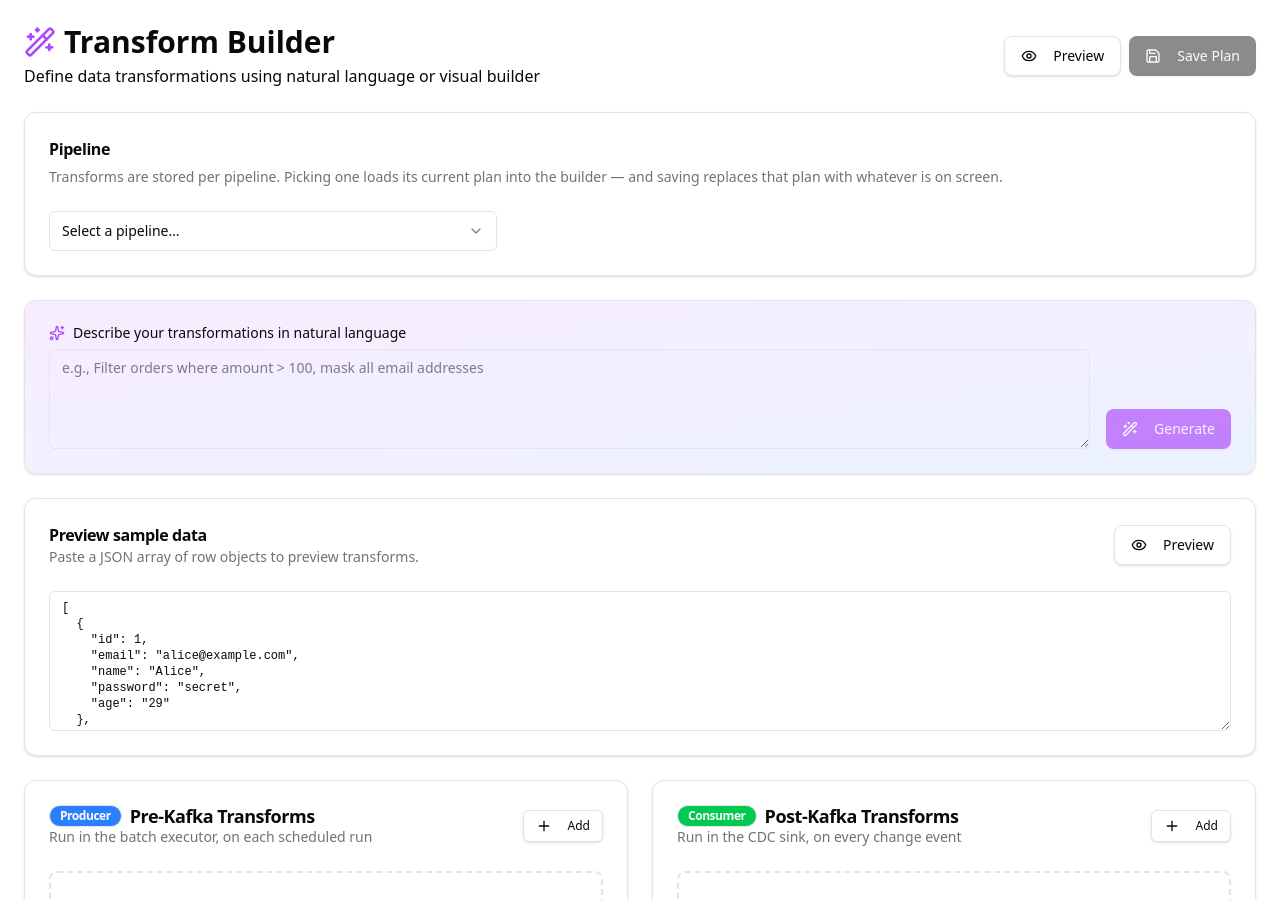
Test: Transform Builder — unsaved work › says nothing about unsaved work on a plan that is exactly what is stored
Click the dropdown.
click(121, 230)  # box [49, 211, 497, 251]
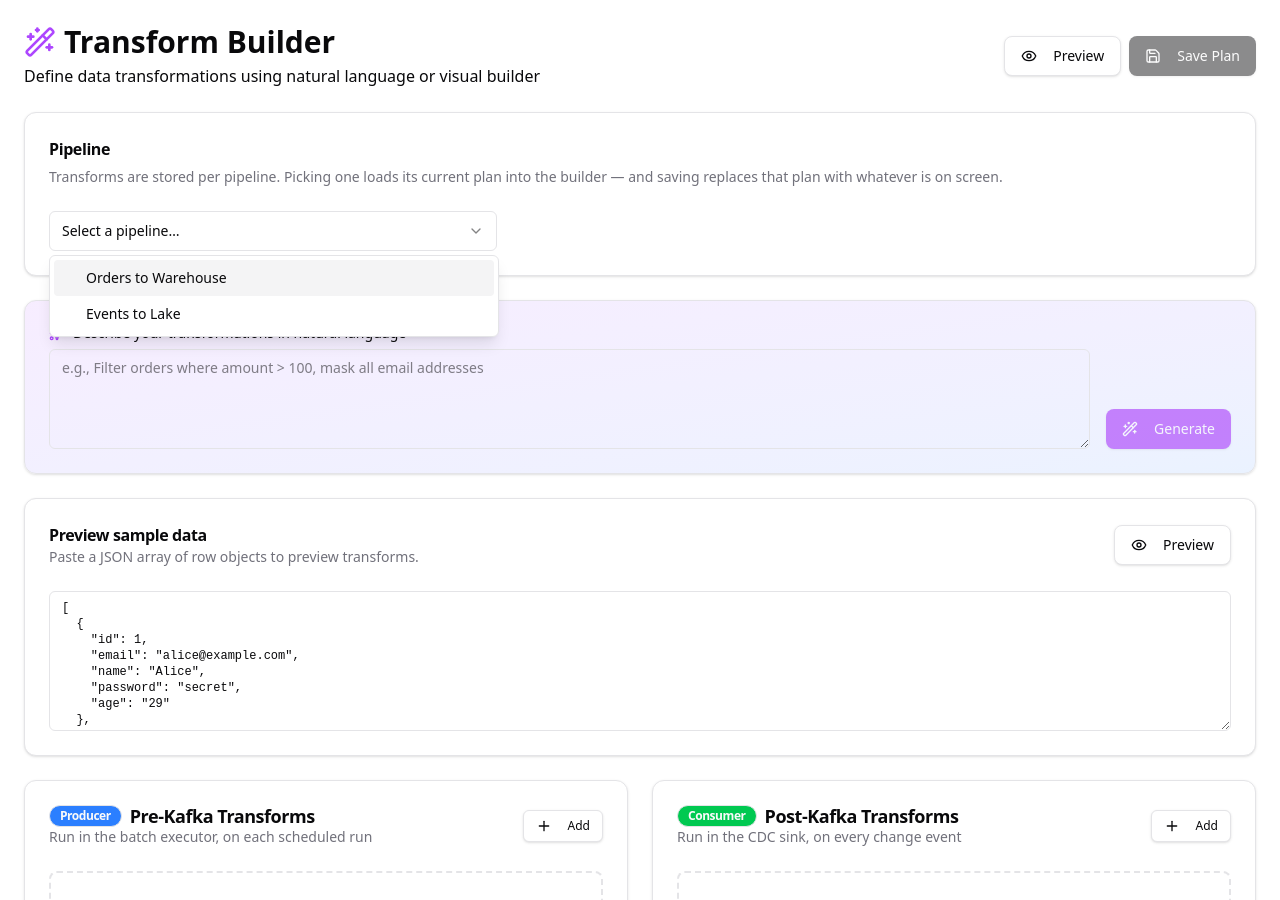
Click the option "Orders to Warehouse".
click(156, 278)  # box [54, 260, 494, 296]
(page scrolled)
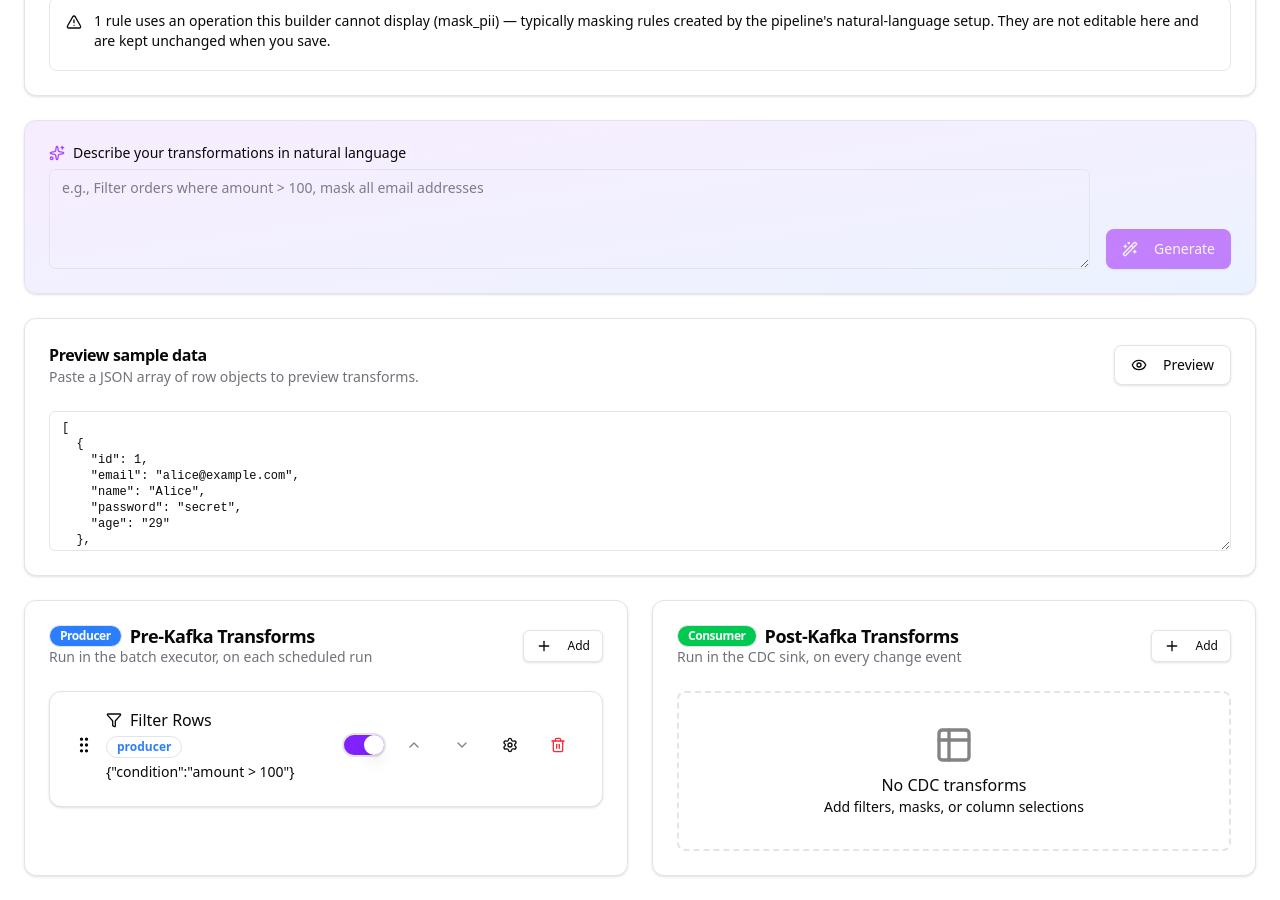
Expected: the text "Filter Rows" is shown, [130, 708, 212, 732]
